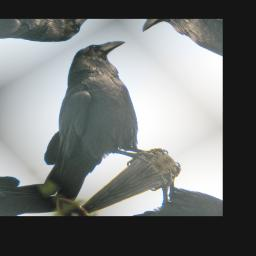Crow: (0, 28, 211, 212)
